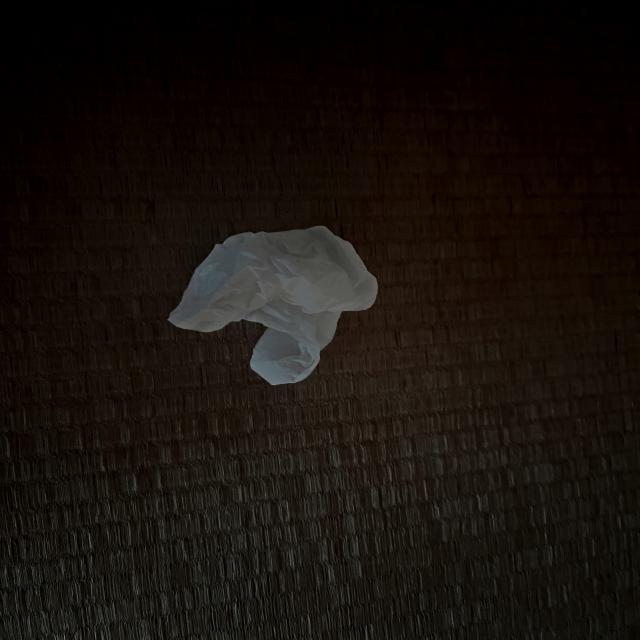Paper: (179, 215, 378, 372)
